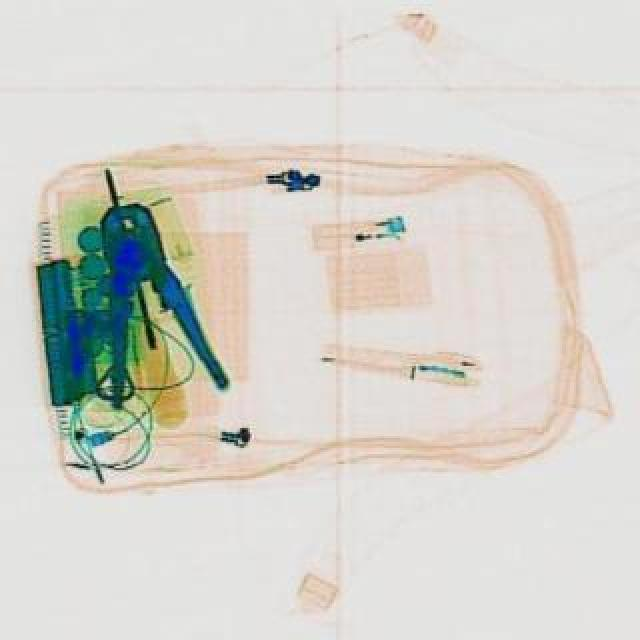wrench: (64, 194, 232, 414)
